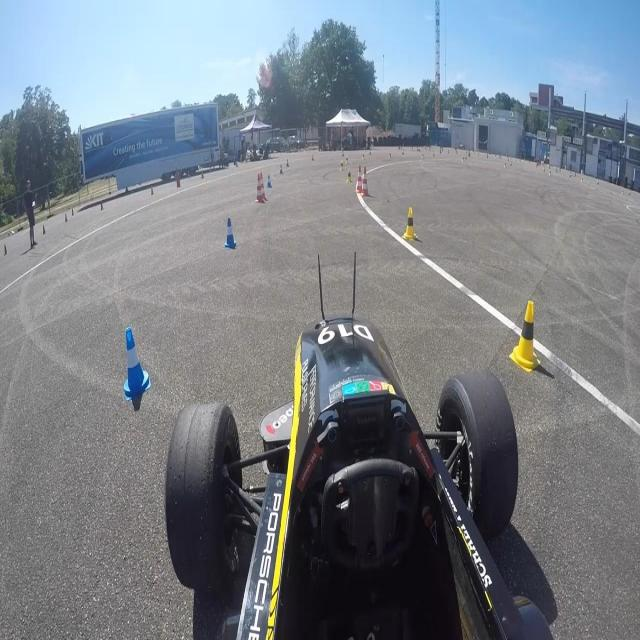blue_cone: (124, 327, 152, 400), (224, 217, 238, 248)
large_orange_cone: (254, 174, 264, 203), (258, 172, 268, 201), (361, 165, 370, 197), (356, 163, 365, 193)
yellow_cone: (509, 300, 540, 372), (402, 206, 417, 242)
